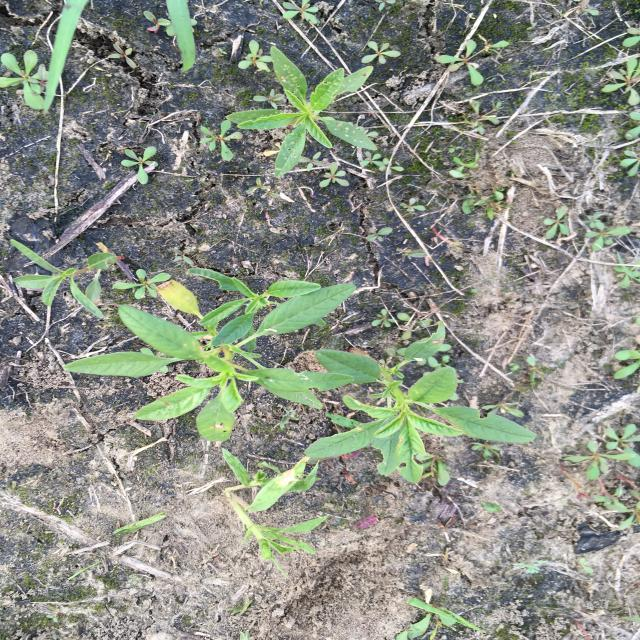Carpetweed: (596, 25, 638, 180), (558, 421, 638, 477), (543, 206, 634, 250), (433, 36, 513, 86), (1, 49, 57, 112), (113, 270, 175, 301), (118, 144, 162, 186), (240, 36, 276, 76), (359, 40, 403, 70), (282, 1, 322, 25)
Waterhemp: (61, 266, 359, 443), (302, 316, 540, 485), (223, 44, 382, 181), (5, 238, 119, 324)
